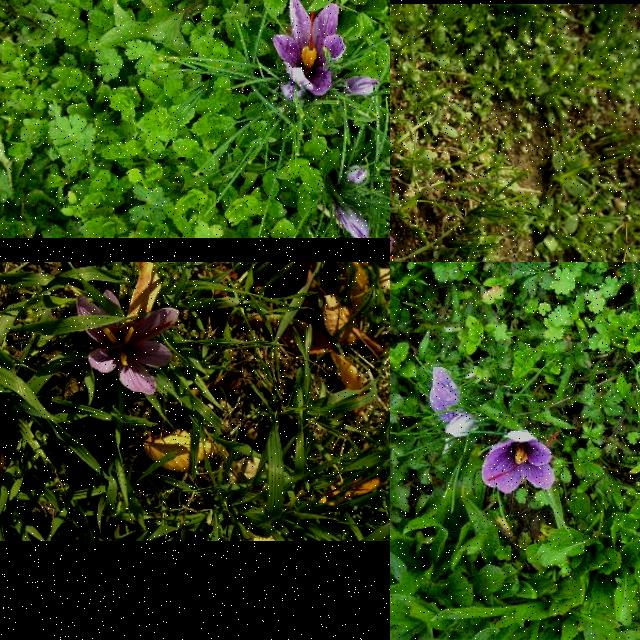flower: (76, 289, 180, 395), (273, 0, 346, 96), (482, 430, 556, 492), (336, 208, 370, 238), (346, 76, 379, 96), (348, 165, 370, 188), (280, 83, 304, 103)
